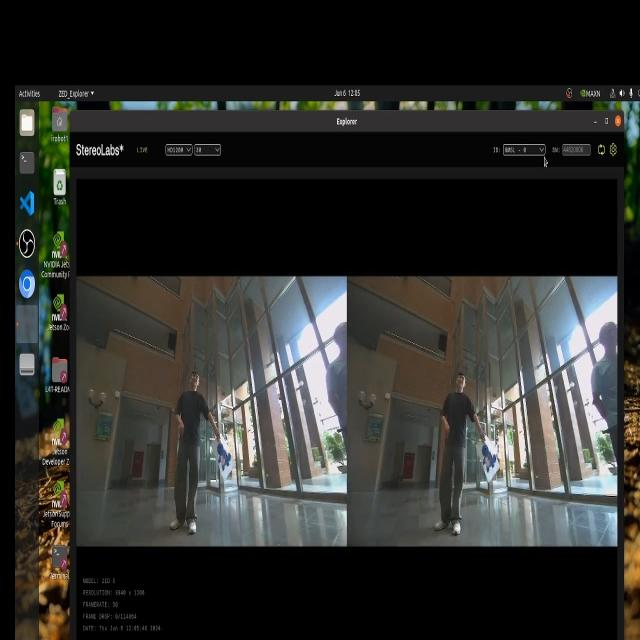blue: (472, 443, 499, 479), (208, 440, 233, 472)
